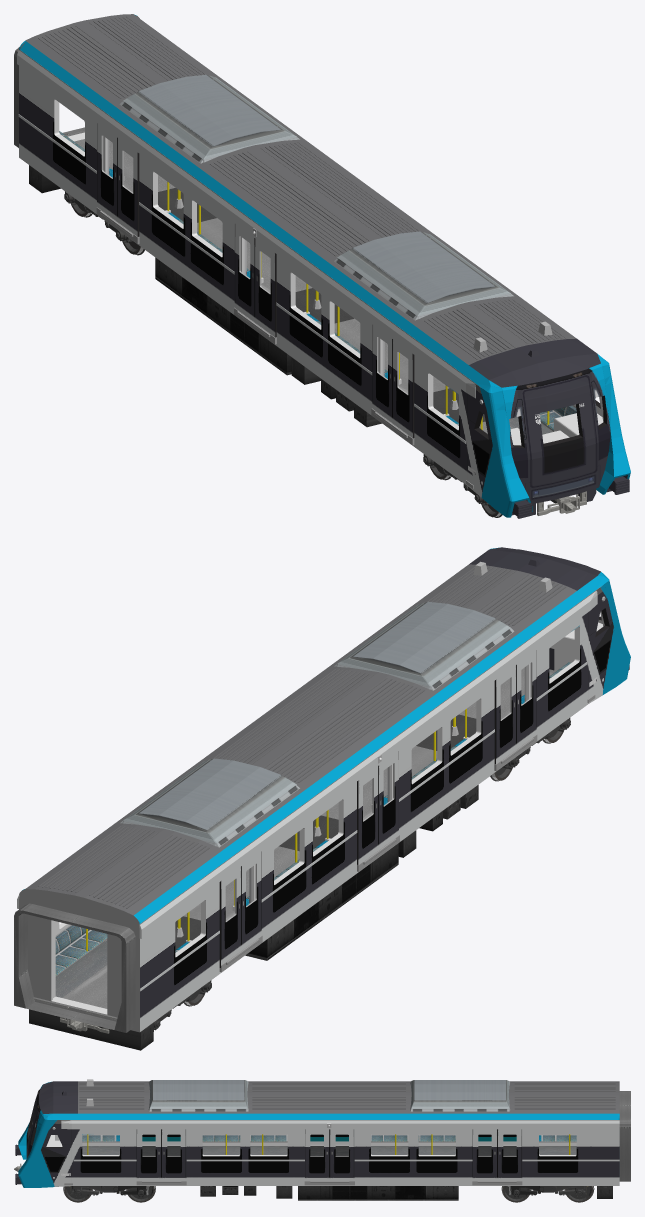
Rendered from sydneymetro_tc.obj.
3 views of the same model, one above another, from view 1: azimuth 30°, elevation 25°; view 2: azimuth 150°, elevation 25°; view 3: azimuth 270°, elevation 25° (orthographic). The views are drawn at different scales.
Parts seen in each view (by area): view 1: base, side, air, jibungbid, front, bid, frontside2, floor, door_RF, habu, door_RB, frontside (+4 smaller); view 2: base, side, air, jibungbid, bid, floor, habu, mak, door_RB, door_RF, 3seat, DT71 (+4 smaller); view 3: side, base, jibungbid, bid, air, habu, door_LB, door_LF, floor, DT71, frontside2, 6seat (+7 smaller).
Boxes of the visible parts, box(x1,y1,x2,y2) form: base: box(19, 14, 596, 383); side: box(19, 49, 600, 507); air: box(119, 74, 539, 357); jibungbid: box(38, 16, 565, 359); front: box(492, 363, 610, 503); bid: box(17, 50, 483, 488); frontside2: box(483, 359, 630, 518); floor: box(74, 139, 552, 434); door_RF: box(117, 138, 414, 438); habu: box(29, 165, 381, 427); door_RB: box(97, 123, 392, 423); frontside: box(476, 353, 603, 388); base: box(19, 549, 597, 1031); side: box(19, 584, 614, 1032); air: box(120, 558, 539, 847); jibungbid: box(38, 561, 565, 908); bid: box(17, 591, 605, 991); floor: box(55, 667, 553, 1008); habu: box(29, 785, 478, 1050); mak: box(14, 903, 135, 1032); door_RB: box(219, 665, 516, 967); door_RF: box(241, 650, 536, 950); 3seat: box(55, 662, 570, 976); DT71: box(154, 718, 570, 1030); side: box(39, 1120, 619, 1187); base: box(53, 1081, 619, 1119); jibungbid: box(79, 1079, 615, 1109); bid: box(52, 1120, 619, 1185); air: box(62, 1080, 510, 1111); habu: box(200, 1186, 612, 1200); door_LB: box(161, 1129, 522, 1180); door_LF: box(136, 1129, 497, 1180); floor: box(62, 1146, 576, 1156); DT71: box(63, 1186, 594, 1202); frontside2: box(15, 1114, 52, 1187); 6seat: box(202, 1134, 455, 1142).
Bounding box in the file's own units: 3.02 × 3.88 × 20.6.
Materials: 31 (30 with a texture image).
